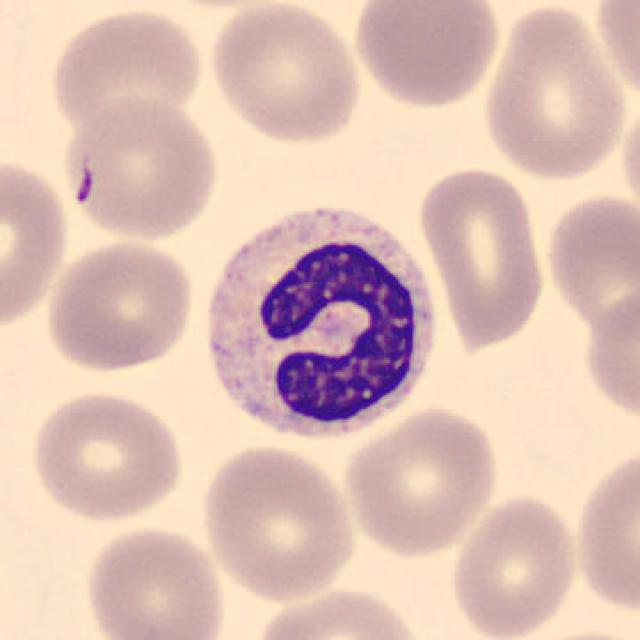Neutrophil: (192, 196, 450, 453)
RBC: (478, 0, 631, 183), (197, 441, 361, 605), (414, 162, 550, 351), (340, 404, 503, 559), (61, 92, 222, 243), (202, 0, 364, 146), (25, 386, 187, 526), (46, 4, 208, 141), (41, 236, 197, 374), (446, 490, 582, 638), (80, 522, 229, 640), (347, 0, 505, 111), (540, 188, 638, 336), (0, 152, 71, 333), (569, 440, 638, 620), (251, 582, 425, 640), (580, 277, 638, 432), (590, 0, 640, 106)
